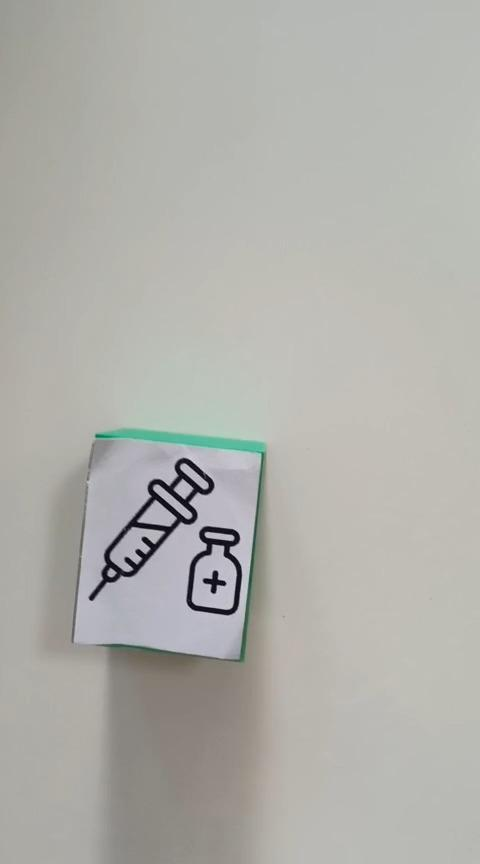antiseptic cream: (70, 427, 267, 664)
